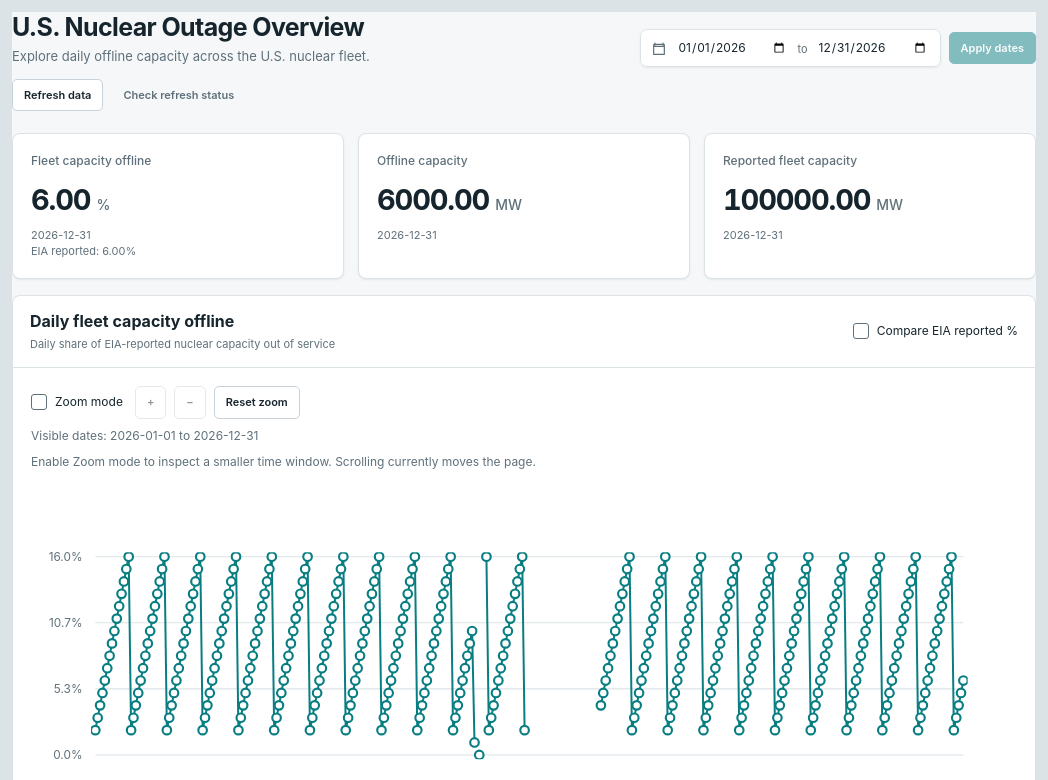
Test: Overview exact observation behavior › starts a fresh disabled full viewport after published snapshot reload while preserving applied dates
The width and height of the screenshot is (1048, 780).
Click the checkbox labelled "Zoom mode" at coordinates (39, 402), box [31,394,47,410]
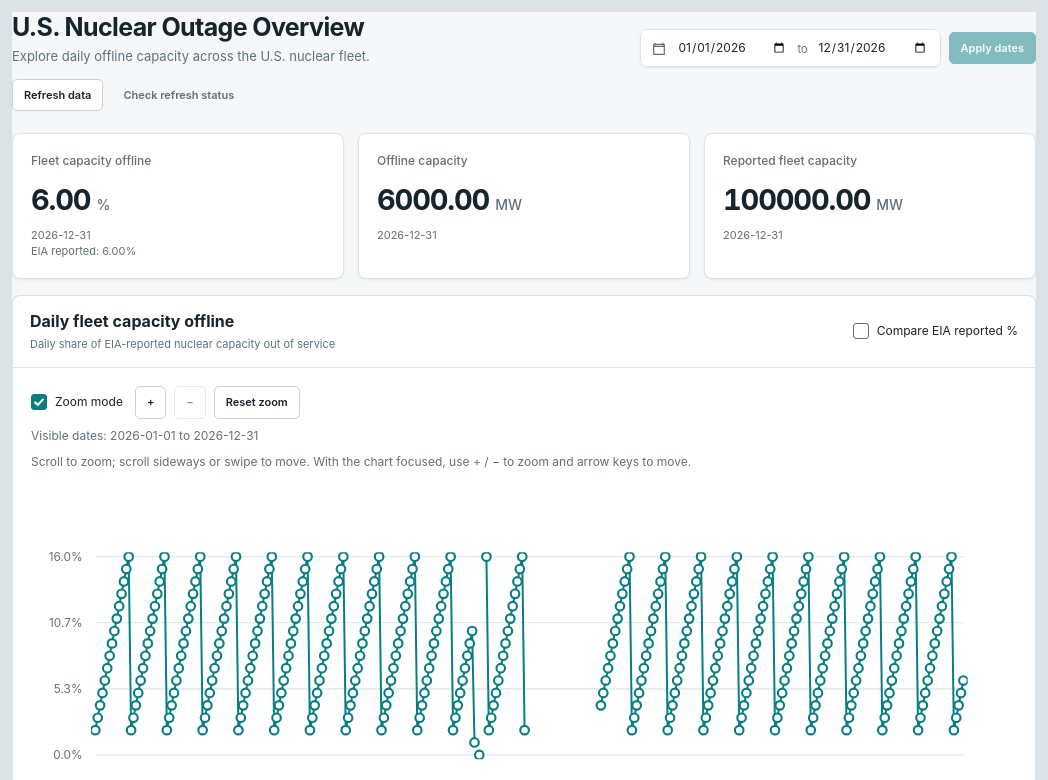
Click the button named "Zoom in" at coordinates (151, 402), box [135,386,166,418]
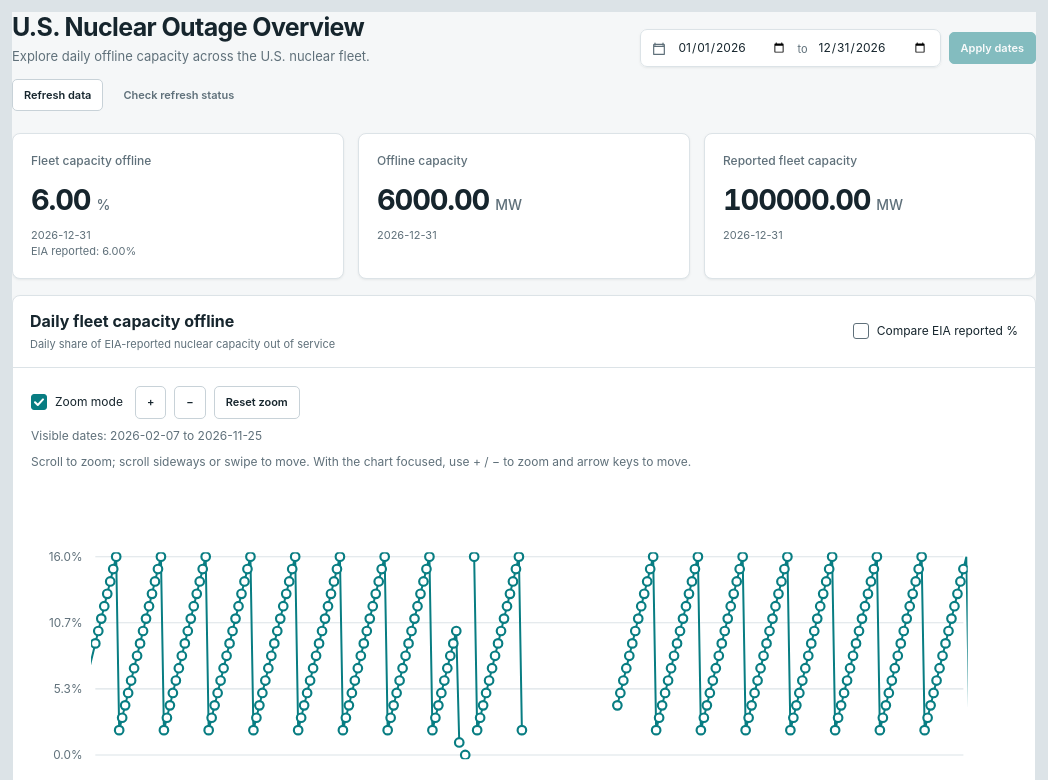
Click the button "Check refresh status" at coordinates (179, 95), box [111,79,246,111]
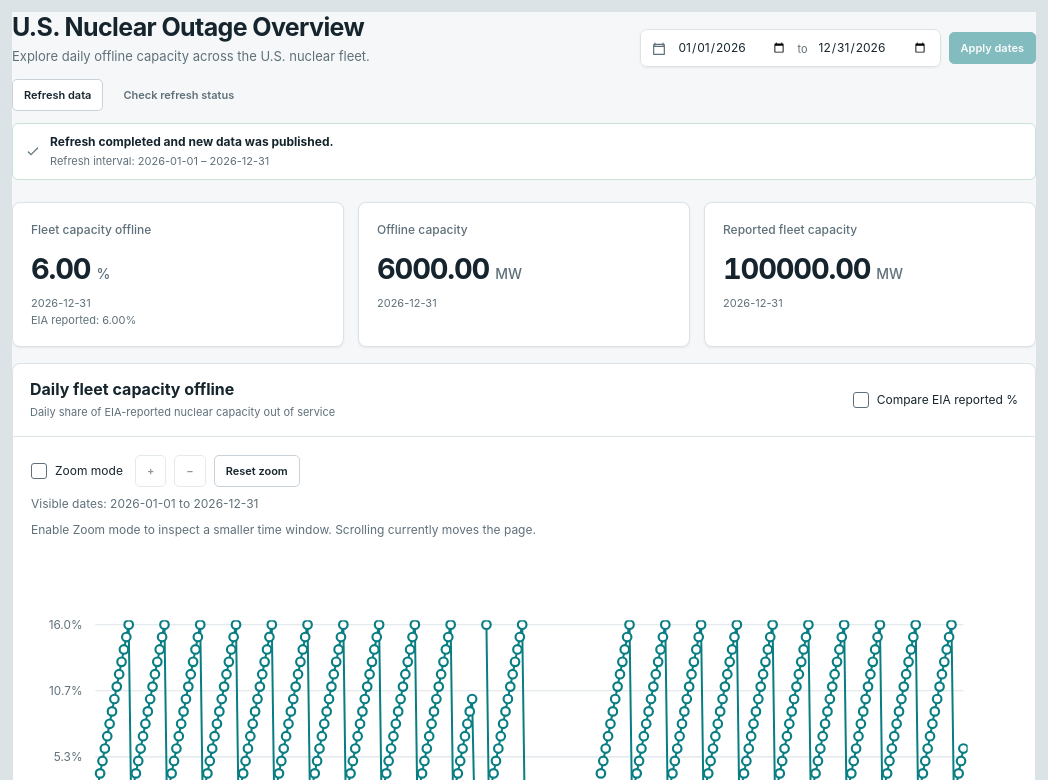
expect the text "Refresh completed and new data was published." is shown: met, box [50,134,334,149]
expect the text "Visible dates: 2026-01-01 to 2026-12-31" is shown: met, box [31,496,258,511]
expect the checkbox labelled "Zoom mode" is not checked: met, box [31,463,47,479]
